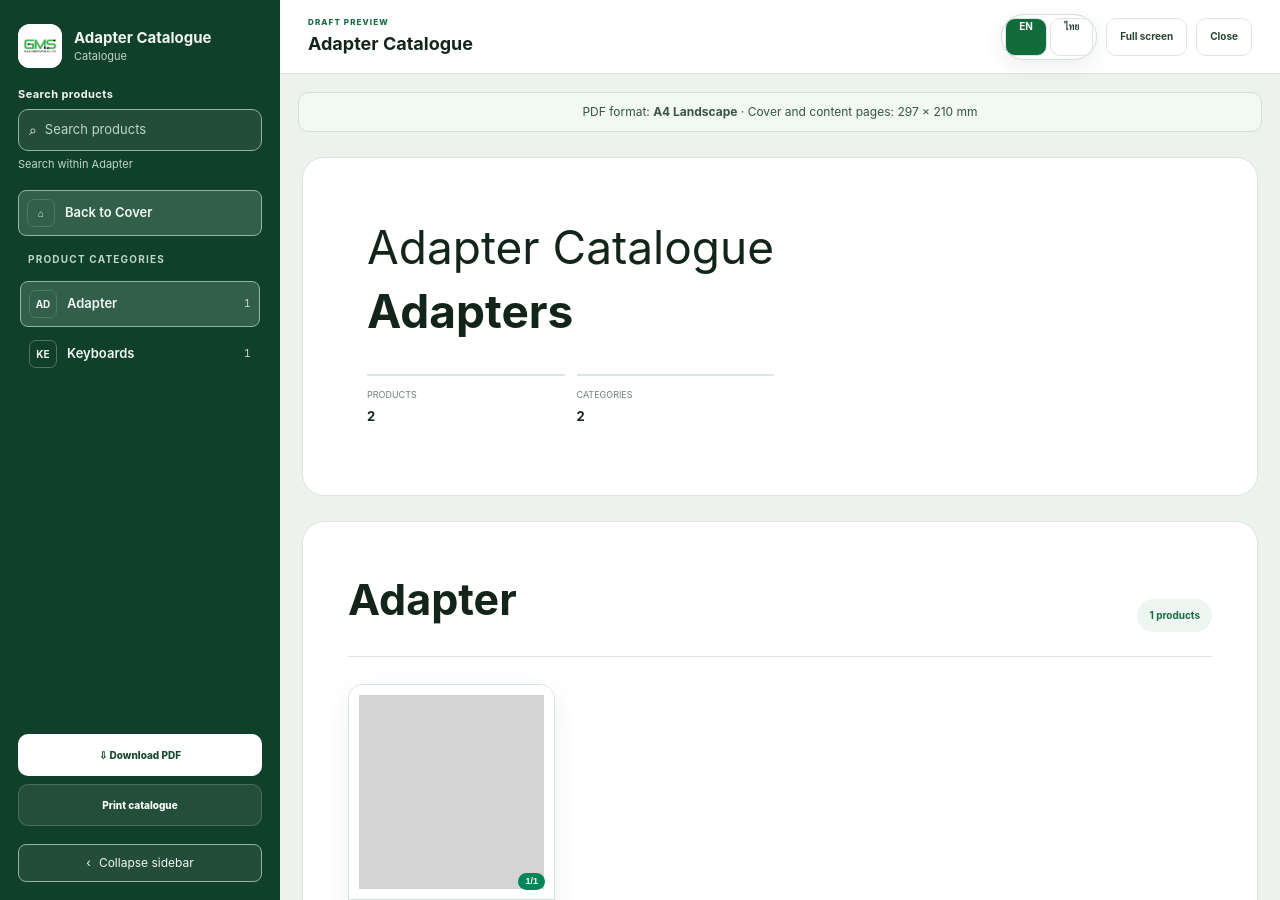
Scenario: CataloguePreviewPage image controls › shows only products from the selected category in the authenticated preview
Step 1. Click the button "KE Keyboards 1" → click(140, 354), box [20,331,260,377]
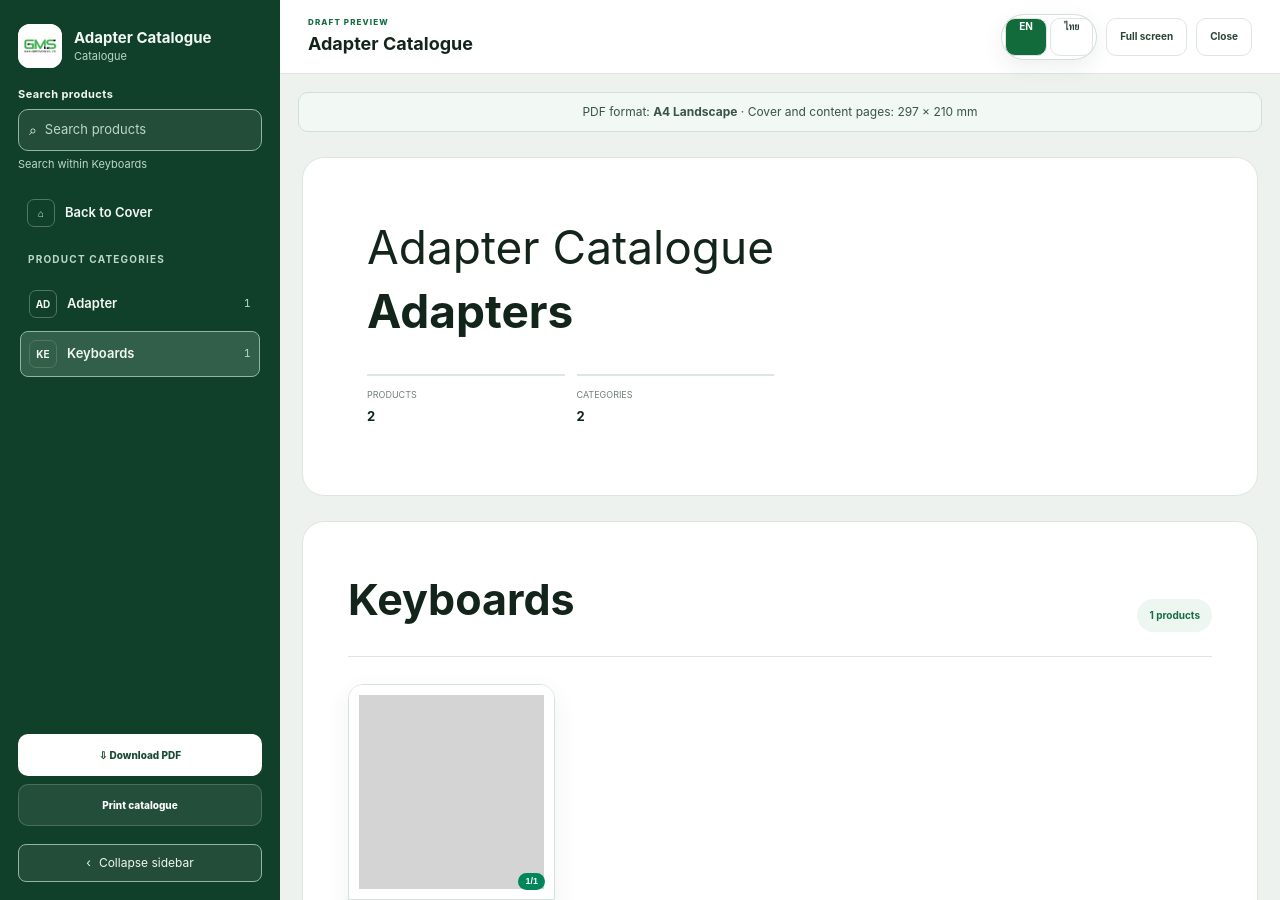
expect the text "Universal adapter" is not shown: met
expect the text "Search within Keyboards" is shown: met, box [18,156,147,170]
Step 2. Type "keyboard" into the search field labelled "Search products" → (149, 130), box [45,120,253,139]
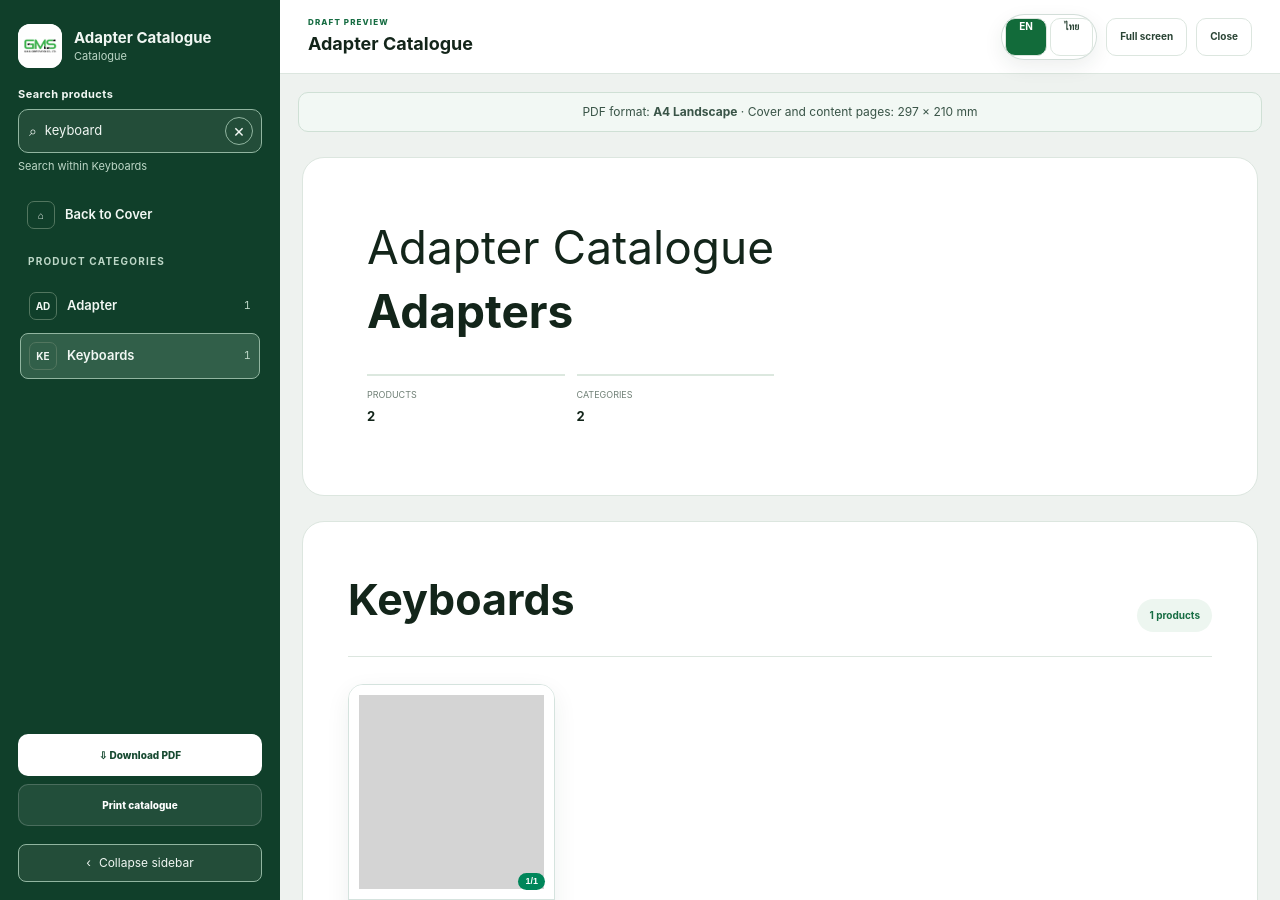
Step 3. Click the button "AD Adapter 1" → click(140, 306), box [20,283,260,329]
(page scrolled)
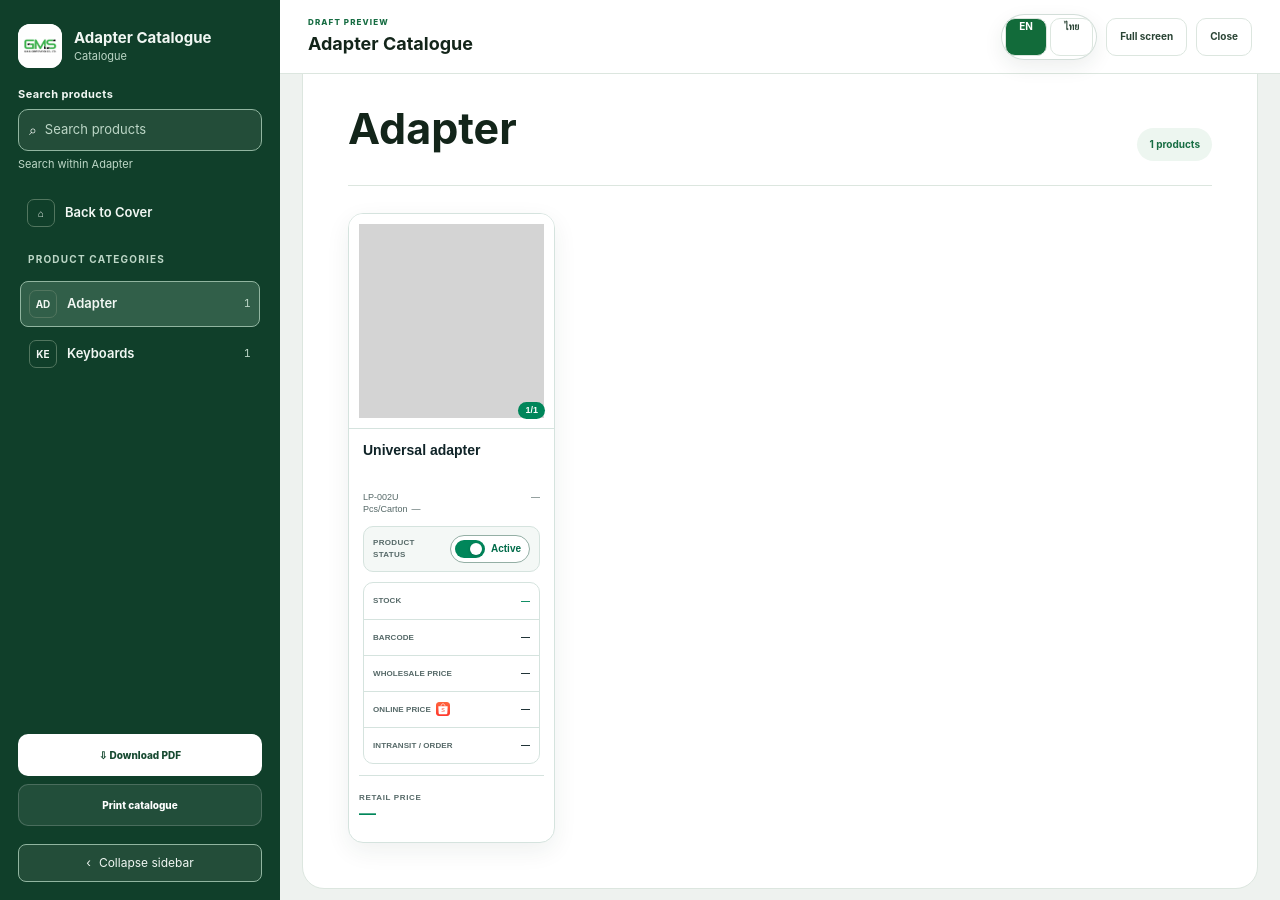
expect the search field labelled "Search products" is empty: met, box [45,120,253,139]
expect the heading "Universal adapter" is shown: met, box [363,441,480,459]
